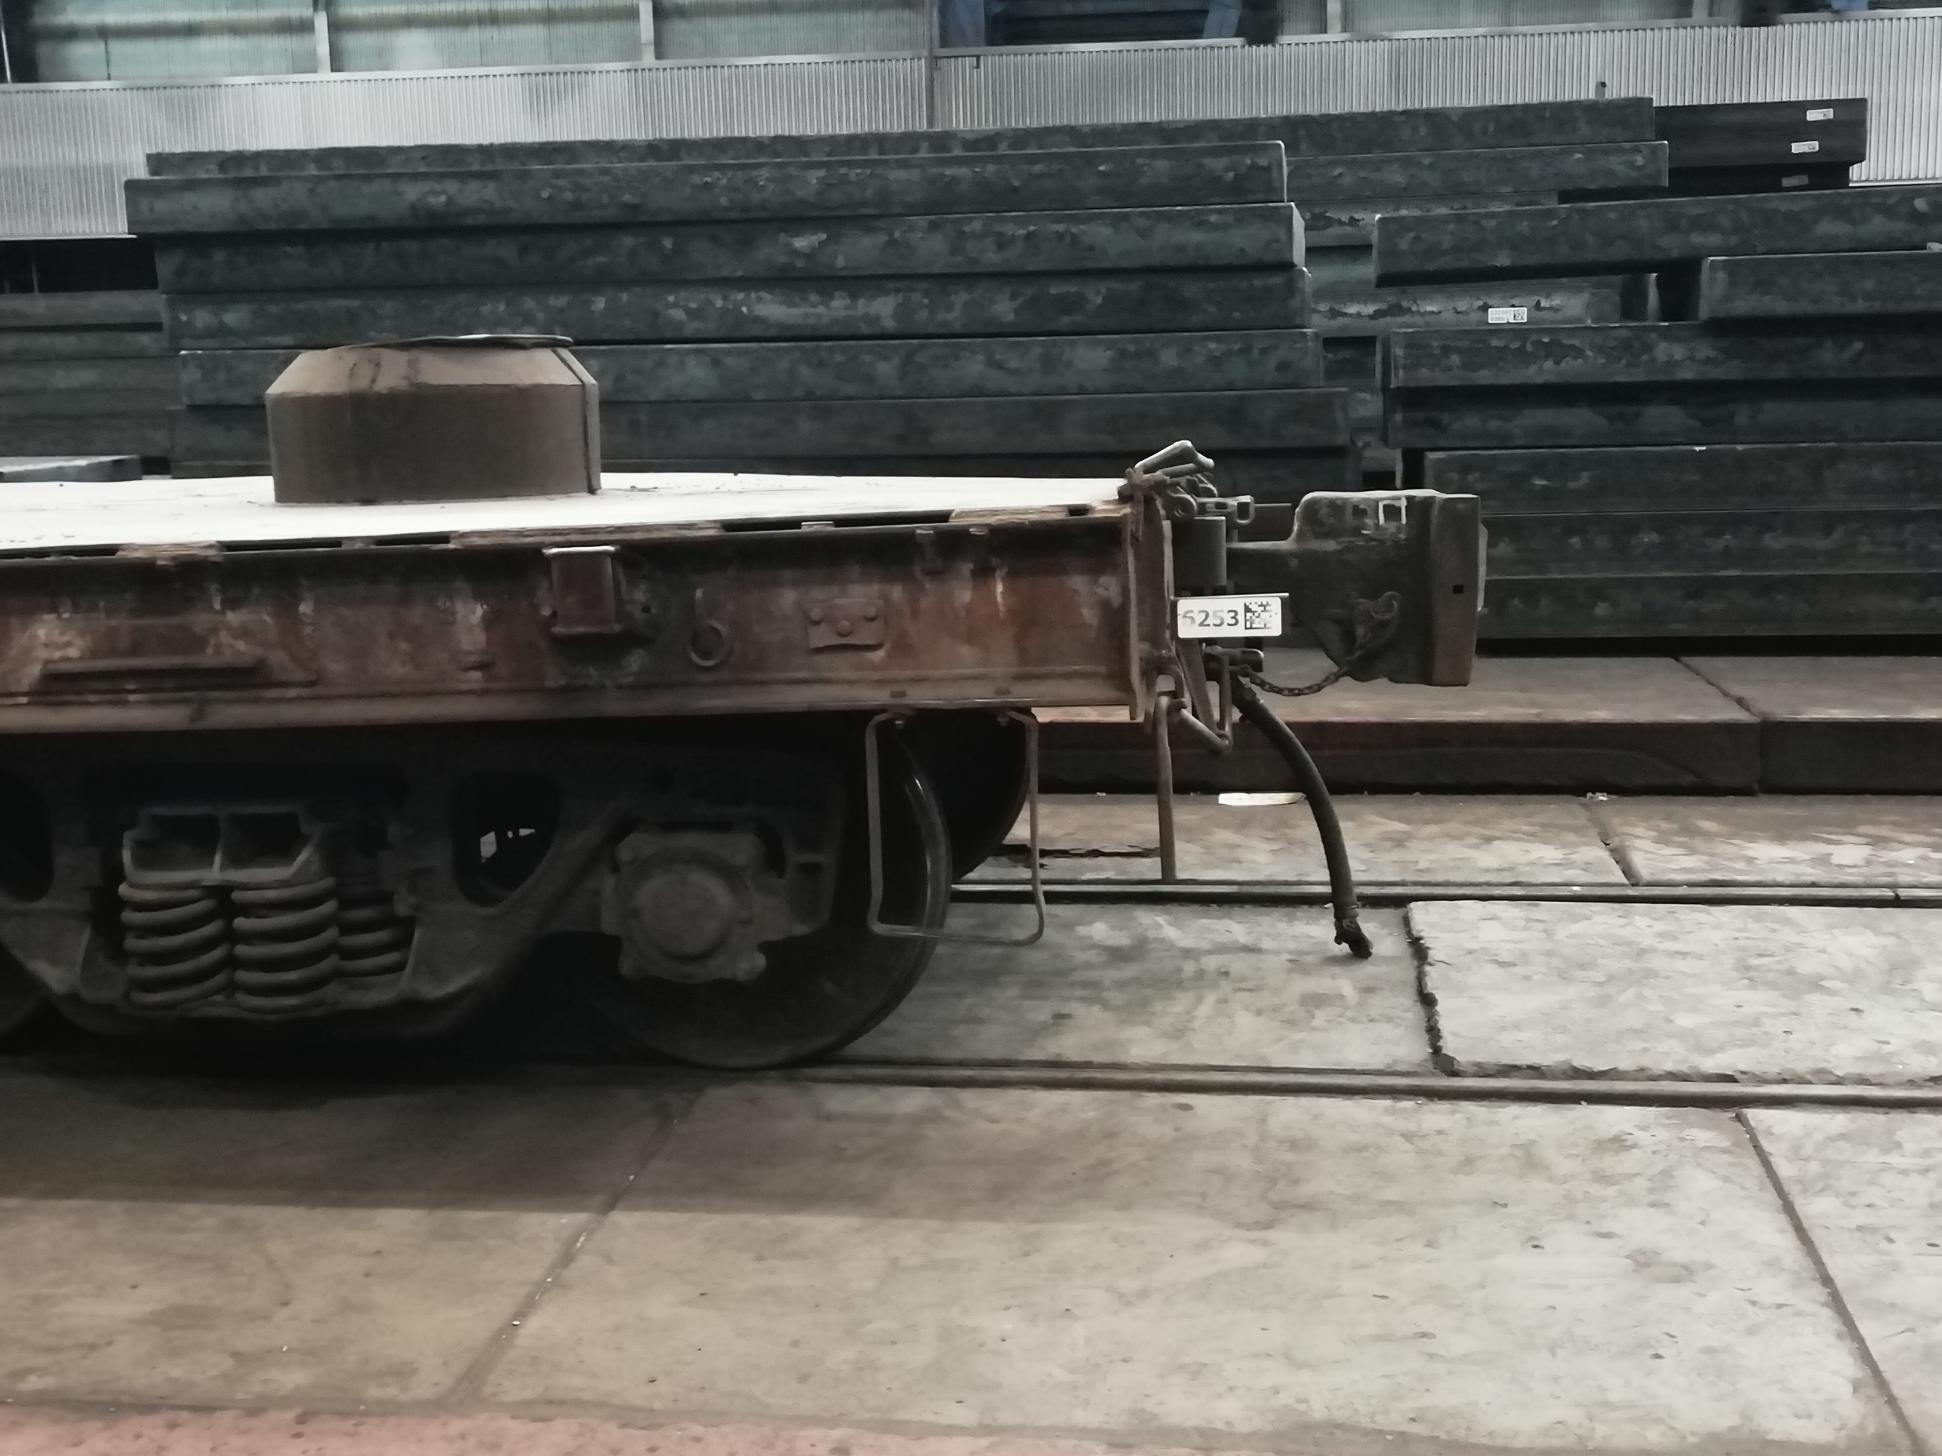data matrix: (1239, 595, 1281, 639)
